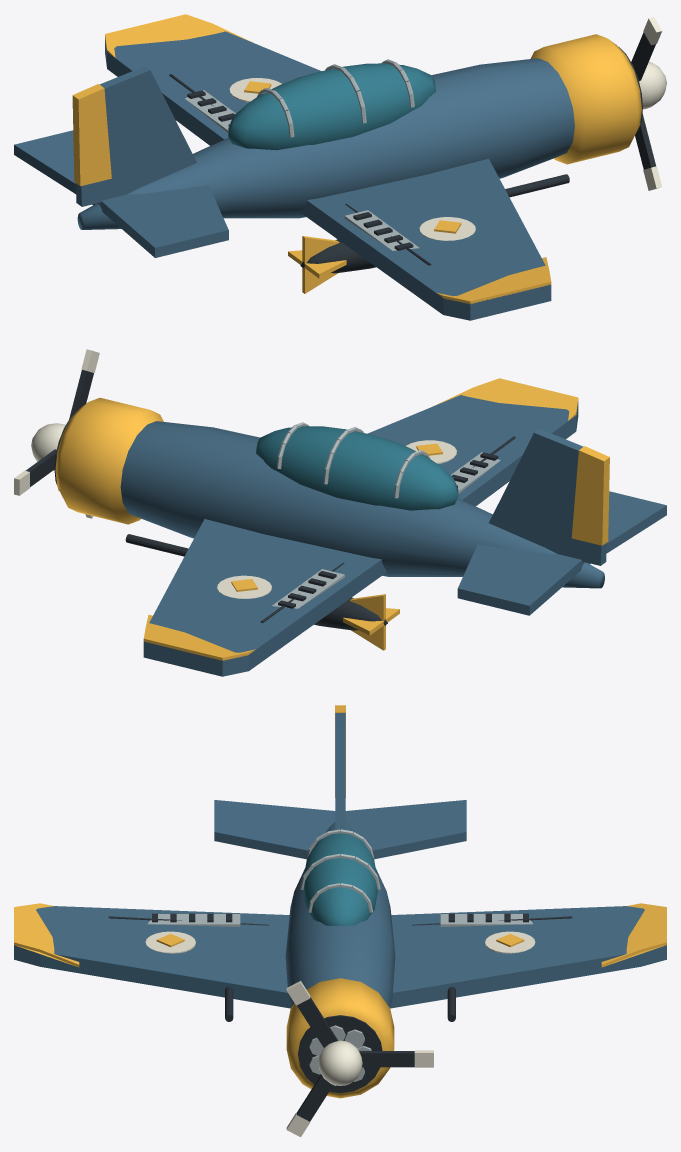
File: bomber.glb
3 views of the same model, one above another, from view 1: azimuth 30°, elevation 25°; view 2: azimuth 150°, elevation 25°; view 3: azimuth 270°, elevation 25° (orthographic). The views are drawn at different scales.
Visible parts, largest first — view 1: Aircraft_bomber.002_Air_Midnight_Blue.003, Aircraft_bomber.002_Air_Amber.003, Aircraft_bomber.002_Air_Blue_Glass.003, Aircraft_bomber.002_Air_Charcoal.003, Aircraft_bomber.002_Air_Aluminium.003, Propeller.002_Air_Ivory.003, Aircraft_bomber.002_Air_Ivory.003, Propeller.002_Air_Charcoal.003; view 2: Aircraft_bomber.002_Air_Midnight_Blue.003, Aircraft_bomber.002_Air_Amber.003, Aircraft_bomber.002_Air_Blue_Glass.003, Aircraft_bomber.002_Air_Charcoal.003, Aircraft_bomber.002_Air_Aluminium.003, Propeller.002_Air_Ivory.003, Aircraft_bomber.002_Air_Ivory.003, Propeller.002_Air_Charcoal.003; view 3: Aircraft_bomber.002_Air_Midnight_Blue.003, Aircraft_bomber.002_Air_Amber.003, Aircraft_bomber.002_Air_Blue_Glass.003, Aircraft_bomber.002_Air_Aluminium.003, Aircraft_bomber.002_Air_Charcoal.003, Propeller.002_Air_Ivory.003, Propeller.002_Air_Charcoal.003, Aircraft_bomber.002_Air_Ivory.003.
Part boxes in pixels (x1,y1,x2,y2): Aircraft_bomber.002_Air_Midnight_Blue.003: (14, 31, 574, 320); Aircraft_bomber.002_Air_Amber.003: (72, 14, 641, 304); Aircraft_bomber.002_Air_Blue_Glass.003: (228, 63, 435, 150); Aircraft_bomber.002_Air_Charcoal.003: (169, 47, 642, 273); Aircraft_bomber.002_Air_Aluminium.003: (185, 59, 419, 250); Propeller.002_Air_Ivory.003: (639, 17, 666, 190); Aircraft_bomber.002_Air_Ivory.003: (229, 78, 475, 240); Propeller.002_Air_Charcoal.003: (631, 32, 655, 169); Aircraft_bomber.002_Air_Midnight_Blue.003: (120, 395, 666, 676); Aircraft_bomber.002_Air_Amber.003: (55, 378, 609, 660); Aircraft_bomber.002_Air_Blue_Glass.003: (256, 426, 458, 510); Aircraft_bomber.002_Air_Charcoal.003: (54, 410, 515, 630); Aircraft_bomber.002_Air_Aluminium.003: (272, 422, 500, 608); Propeller.002_Air_Ivory.003: (14, 349, 99, 518); Aircraft_bomber.002_Air_Ivory.003: (217, 440, 456, 598); Propeller.002_Air_Charcoal.003: (25, 370, 93, 486); Aircraft_bomber.002_Air_Midnight_Blue.003: (14, 713, 666, 1008); Aircraft_bomber.002_Air_Amber.003: (14, 705, 666, 1098); Aircraft_bomber.002_Air_Blue_Glass.003: (303, 829, 377, 926); Aircraft_bomber.002_Air_Aluminium.003: (148, 829, 532, 1085); Aircraft_bomber.002_Air_Charcoal.003: (108, 913, 572, 1093); Propeller.002_Air_Ivory.003: (286, 981, 433, 1137); Propeller.002_Air_Charcoal.003: (296, 997, 414, 1121); Aircraft_bomber.002_Air_Ivory.003: (145, 931, 535, 953).
Bounding box in the file's own units: 1.64 × 0.6993 × 1.76.
